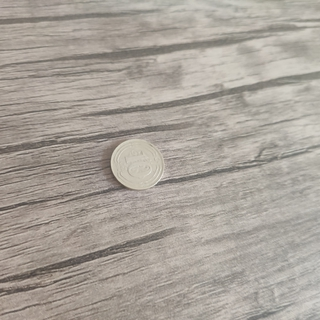10KURUS: (108, 137, 165, 191)
